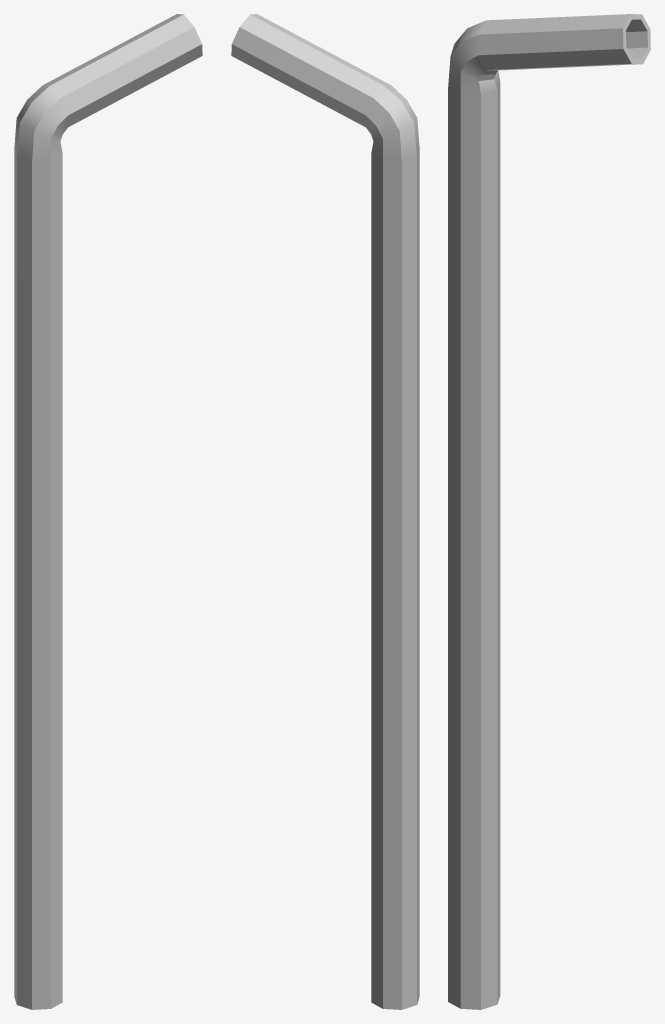
Rendered from Bennett_Straw.fbx.
3 renders of one model, left to right at view 1: azimuth 30°, elevation 25°; view 2: azimuth 150°, elevation 25°; view 3: azimuth 330°, elevation 25°, orthographic. The views are drawn at different scales.
Parts seen in each view (by area): view 1: Straw_Mesh; view 2: Straw_Mesh; view 3: Straw_Mesh.
Boxes of the visible parts, left/top/right/bottom form: Straw_Mesh: left=14, top=14, right=202, bottom=1009; Straw_Mesh: left=231, top=14, right=419, bottom=1009; Straw_Mesh: left=448, top=14, right=650, bottom=1009.
Size of the model in its own units: 0.0823 by 0.4186 by 0.02.
